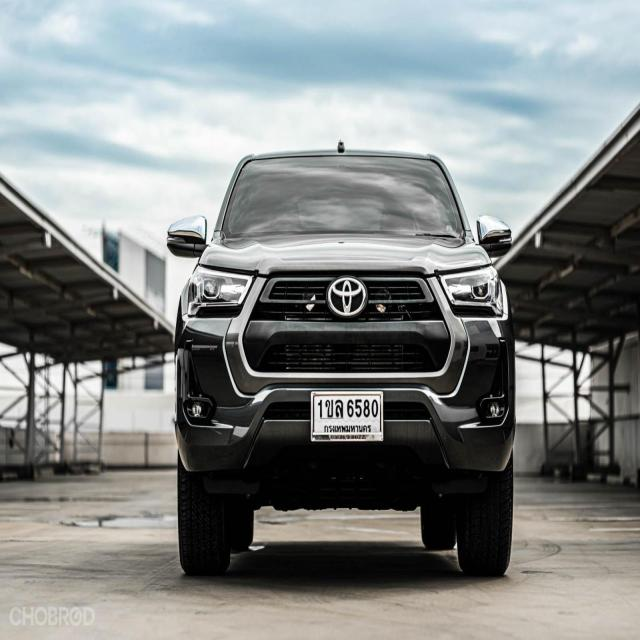license_plate: (307, 381, 388, 452)
